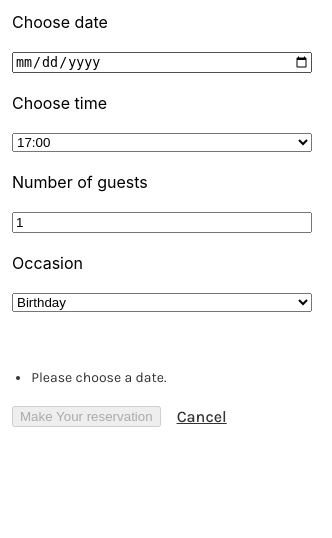
Submit button becomes disabled again if guests is set outside the valid range
Step 1. Type "2026-08-15" into the date field labelled "Choose date" → coordinates (162, 63), box left=12, top=52, right=312, bottom=73
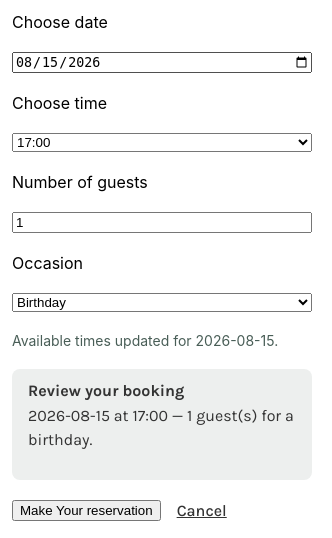
Step 2. Type "4" into the number field labelled "Number of guests" → coordinates (162, 223), box left=12, top=212, right=312, bottom=233
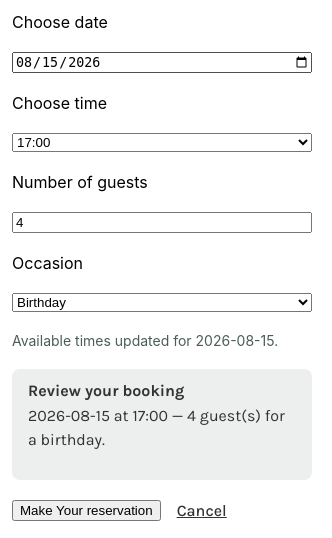
Result: the button showing "Make Your reservation" is enabled at left=12, top=500, right=161, bottom=521
Step 3. Replace the text in the number field labelled "Number of guests" with "15" → coordinates (162, 223), box left=12, top=212, right=312, bottom=233
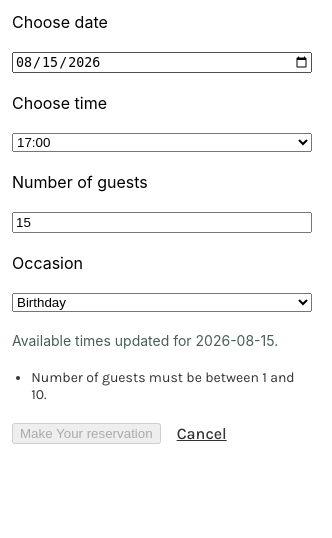
Result: the button showing "Make Your reservation" is disabled at left=12, top=423, right=161, bottom=444
